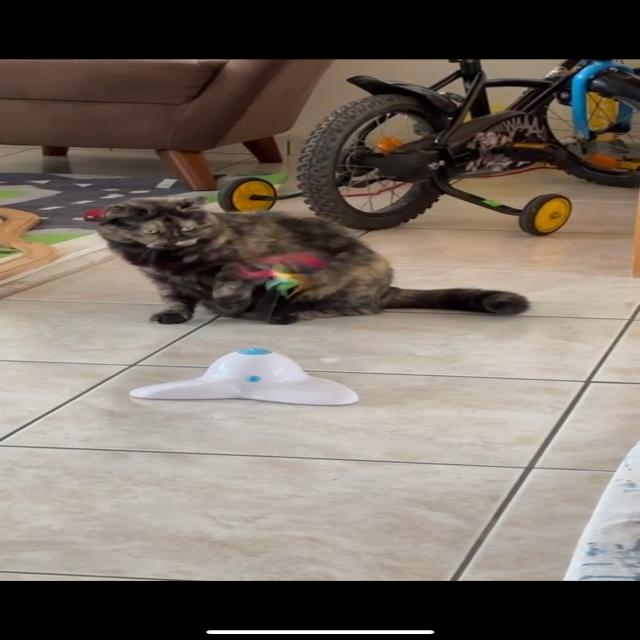authorized: (96, 196, 530, 326)
